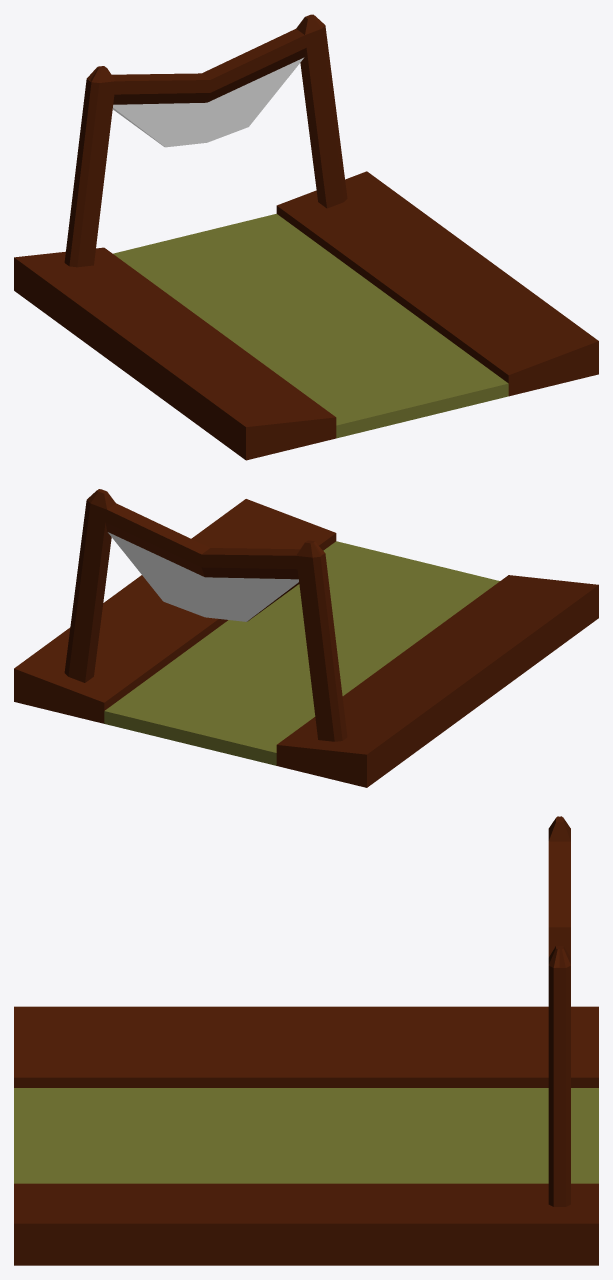
The model's file is FinishLine_Track.fbx.
The picture shows the model from 3 angles, top to bottom: view 1: azimuth 30°, elevation 25°; view 2: azimuth 150°, elevation 25°; view 3: azimuth 270°, elevation 25°; orthographic projection. The views are drawn at different scales.
Visible parts, largest first — view 1: FinishLine_Track; view 2: FinishLine_Track; view 3: FinishLine_Track.
Boxes of the visible parts, x1,y1,x2,y2 form: FinishLine_Track: [14, 14, 598, 460]; FinishLine_Track: [14, 489, 598, 787]; FinishLine_Track: [14, 816, 598, 1265].
Bounding box in the file's own units: 2867 × 1689 × 3265.
